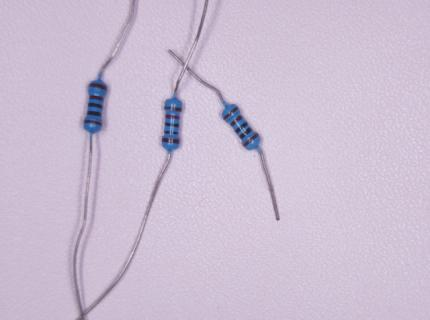Black band: (239, 127, 252, 139), (236, 121, 248, 133), (88, 103, 103, 109), (86, 111, 101, 116)
Brown band: (243, 132, 259, 147), (224, 106, 238, 120), (230, 115, 243, 127), (89, 84, 107, 91), (89, 95, 104, 102), (85, 120, 102, 126)
